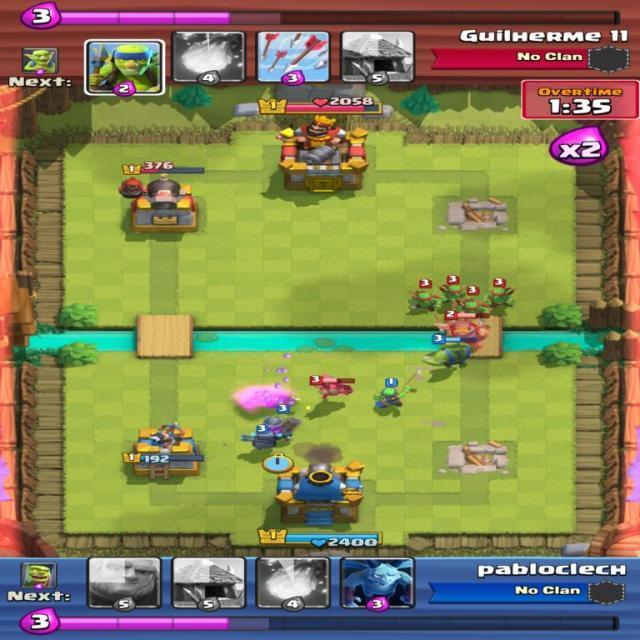ECannoneerTower: (132, 176, 197, 232)
EKingTower: (277, 116, 368, 192)
EKnight: (436, 312, 493, 343)
EMiniPeka: (309, 375, 353, 399)
ESpearGoblin: (409, 279, 441, 314), (487, 278, 514, 316), (459, 286, 489, 318), (440, 274, 465, 312)
OBrawler: (424, 342, 477, 367)
OMiniPekka: (241, 419, 294, 449)
OMusk: (256, 405, 300, 442)
OSpearGoblin: (373, 377, 416, 413)
OwnKingTower: (274, 463, 363, 526)
OwnPrincessTower: (126, 423, 203, 478)
TowerDown: (433, 197, 516, 231), (435, 441, 513, 475)
